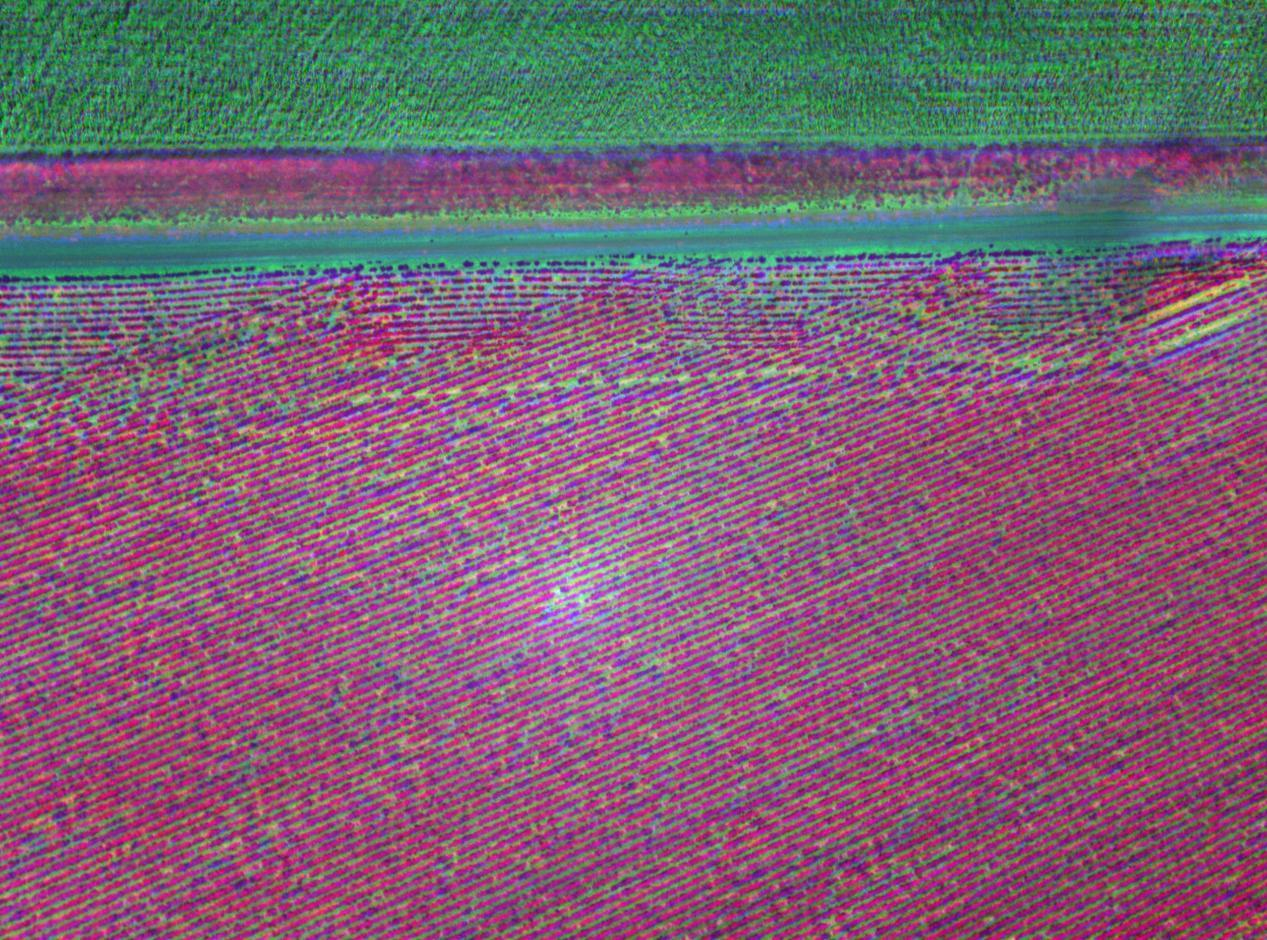dc: (767, 369, 773, 376), (570, 381, 576, 388), (451, 262, 456, 268), (1196, 329, 1201, 335), (1019, 359, 1025, 364), (452, 390, 457, 396), (938, 355, 943, 360), (557, 592, 561, 598), (1173, 307, 1177, 311), (660, 436, 664, 440)
